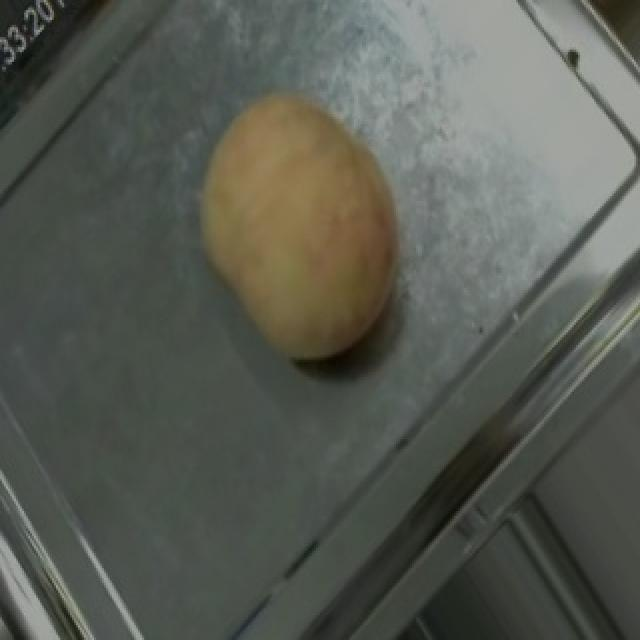Fruit: (150, 54, 454, 400)
